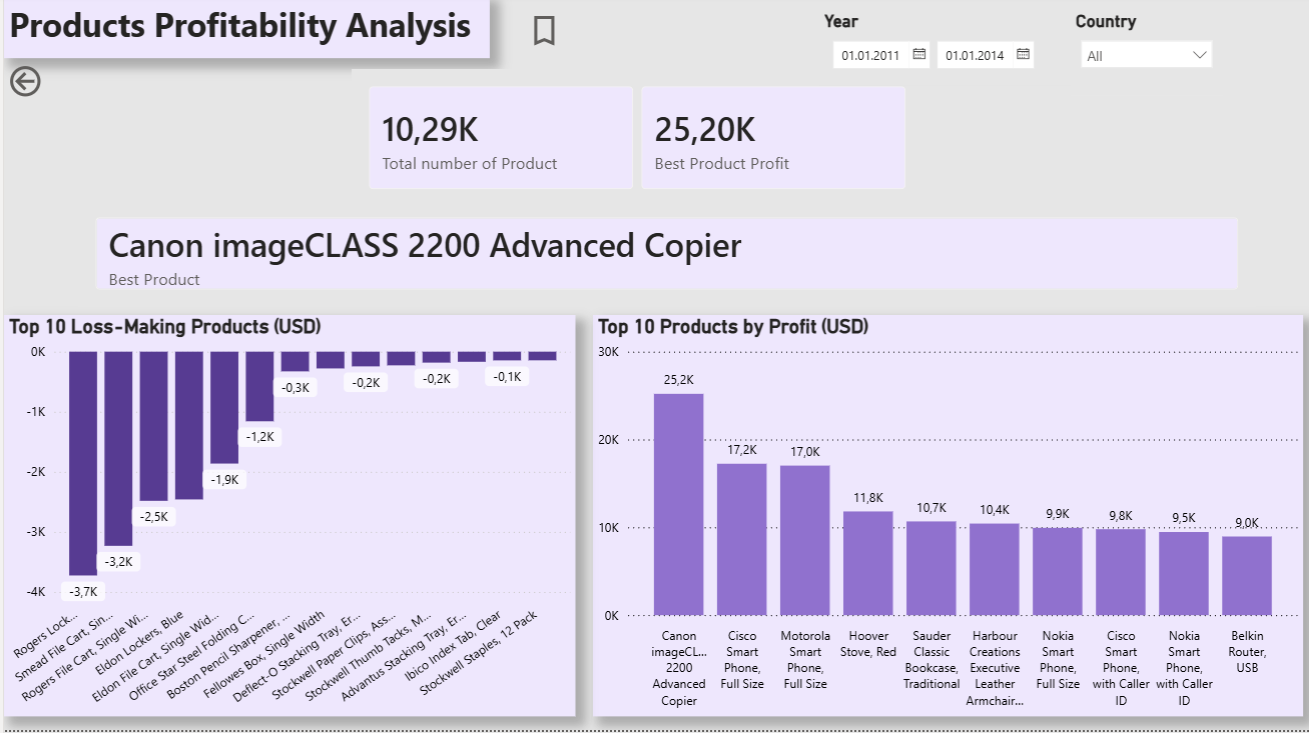

Layout of this report page (visuals, bound fields, positions):
{"tool":"powerbi","page":{"name":"Products Sales","canvas":[1280,720],"ordinal":3},"visuals":[{"type":"columnChart","title":"Top 10 Products by Profit (USD)","fields":{"Y":["Sum(SuperStoreOrders.profit_number)"],"Category":["SuperStoreOrders.product_name"]},"box":[577.2,313.1,696,393.6],"z":0},{"type":"lineStackedColumnComboChart","title":"Top 10 Loss-Making Products (USD)","fields":{"Category":["SuperStoreOrders.product_name"],"Y":["Sum(SuperStoreOrders.profit_number)"]},"box":[0,313.1,560.5,393.6],"z":1000},{"type":"textbox","box":[0,0,475.6,61.3],"z":2000},{"type":"cardVisual","fields":{"Data":["Count(SuperStoreOrders.product_id)","SuperStoreOrders.Best Product Profit"]},"box":[340.6,71.7,560.5,135.5],"z":3000},{"type":"cardVisual","fields":{"Data":["SuperStoreOrders.Best Product"]},"box":[72.6,200.2,1154.4,105],"z":4000},{"type":"slicer","title":"Year","fields":{"Values":["SuperStoreOrders.year"]},"box":[799,14.7,290.6,72.6],"z":5000},{"type":"slicer","title":"Country","fields":{"Values":["SuperStoreOrders.country"]},"box":[1045.4,14.7,149.2,83.4],"z":6000},{"type":"actionButton","box":[510.4,14.7,100.1,38.3],"z":7000},{"type":"actionButton","box":[1,64,99.9,39.8],"z":7001}]}

Visuals, with their boxes in screenshot pixels (x1, y1, x2, y2), scaled from the page's 1280x720 canvas onto the 1309x733 screenshot:
"Top 10 Products by Profit (USD)" columnChart: <region>590, 319, 1302, 719</region>
"Top 10 Loss-Making Products (USD)" lineStackedColumnComboChart: <region>0, 319, 573, 719</region>
textbox: <region>0, 0, 486, 62</region>
cardVisual - Count(SuperStoreOrders.product_id) x SuperStoreOrders.Best Product Profit: <region>348, 73, 922, 211</region>
cardVisual - SuperStoreOrders.Best Product: <region>74, 204, 1255, 311</region>
"Year" slicer: <region>817, 15, 1114, 89</region>
"Country" slicer: <region>1069, 15, 1222, 100</region>
actionButton: <region>522, 15, 624, 54</region>
actionButton: <region>1, 65, 103, 106</region>
